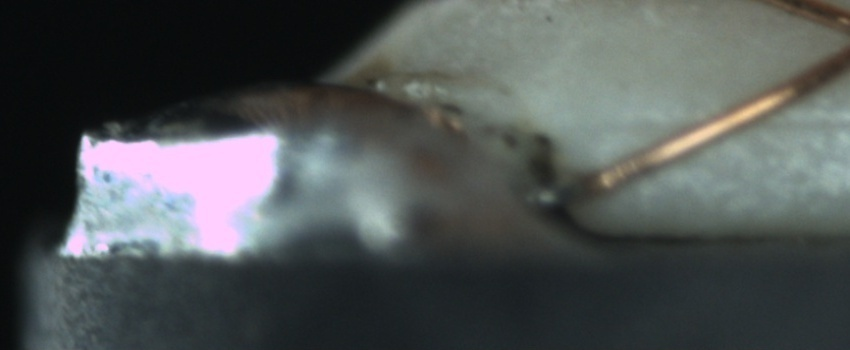DL: (612, 91, 849, 155)
